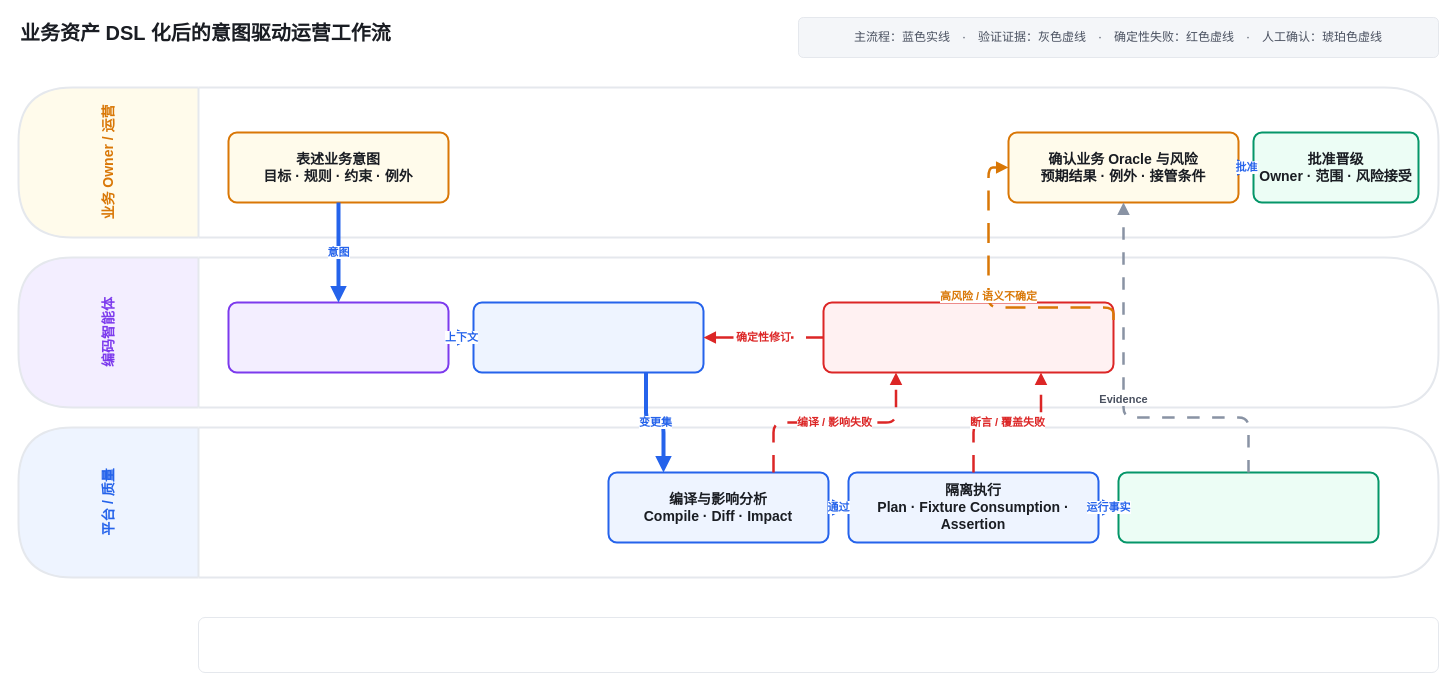
Some shapes in this 1456 by 690 pixel diagram are drawn without their labels. Here are the shapes that lost their labels. From the top down, the centre of each, then its label:
point (338, 337): 读取资产上下文 Catalog · Schema · Policy
point (588, 337): 生成可审查变更集 DSL · Scenario · Fixture
point (968, 337): 诊断与修订 定位 DSL / Fixture / Binding / Policy
point (1248, 507): 形成可验证 Evidence Trace · Coverage · Signature
point (818, 644): 职责边界：编码智能体负责检索、生成、修改和验证，不替业务定义正确答案；业务 Oracle、风险接受与发布批准由授权人员确认。
